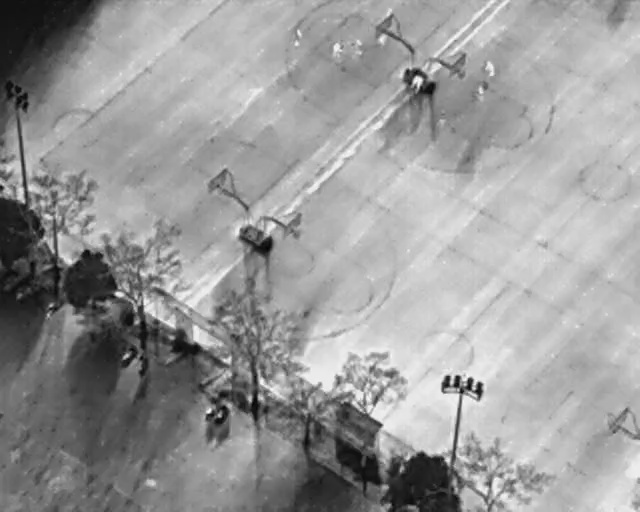Person: (406, 72, 426, 95), (349, 37, 365, 59), (290, 27, 304, 48), (331, 39, 345, 60), (483, 59, 497, 79), (375, 29, 388, 45), (475, 85, 485, 101)
